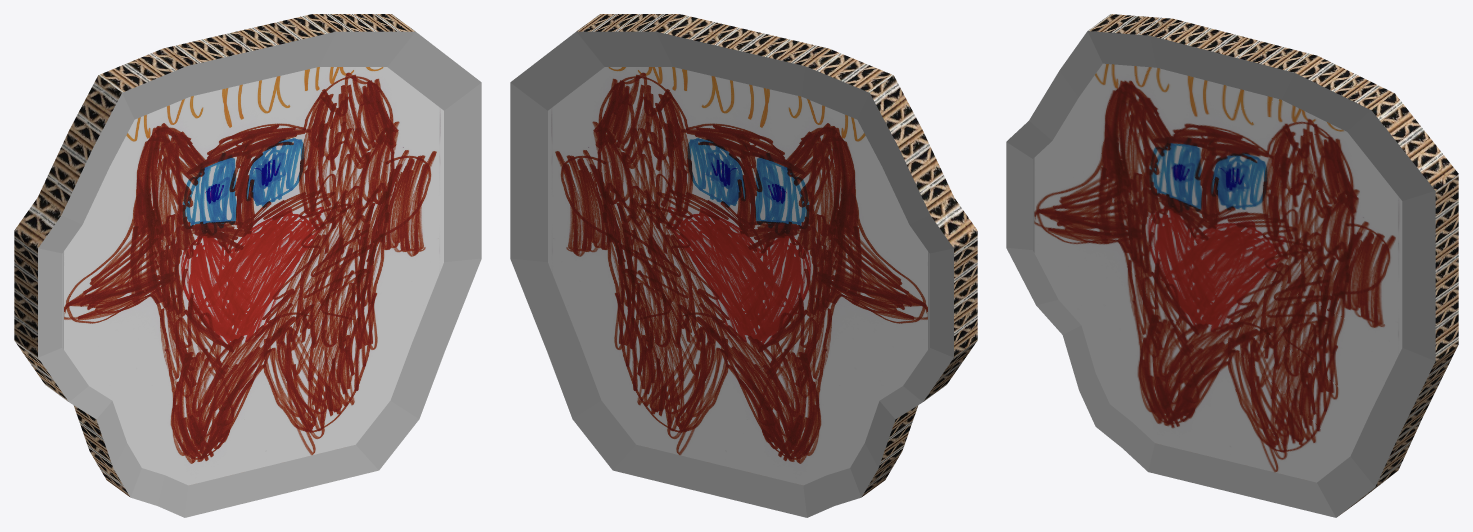
The model's file is KauhuNalle.fbx.
3 renders of one model, left to right at view 1: azimuth 30°, elevation 25°; view 2: azimuth 150°, elevation 25°; view 3: azimuth 330°, elevation 25°, orthographic. The views are drawn at different scales.
Parts seen in each view (by area): view 1: KauhuNalle; view 2: KauhuNalle; view 3: KauhuNalle.
Boxes of the visible parts, x1,y1,x2,y2 form: KauhuNalle: (14,14,481,517); KauhuNalle: (510,14,977,517); KauhuNalle: (1006,14,1458,517).
Size of the model in its own units: 232 by 226 by 21.74.
